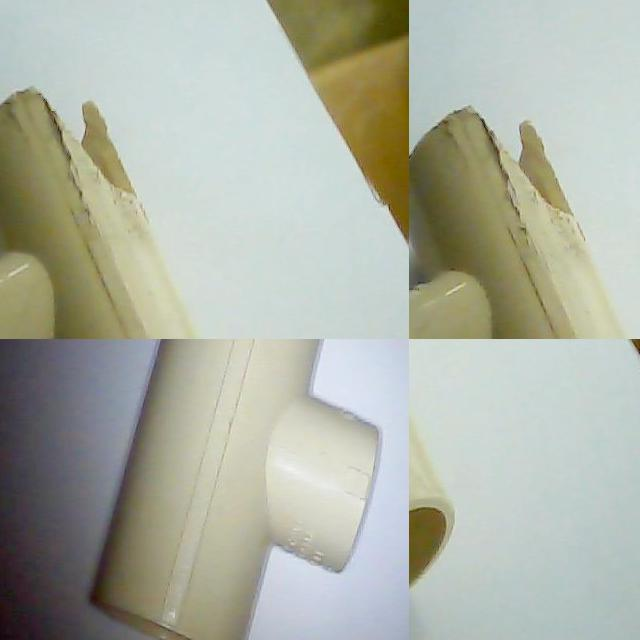Defective: (471, 104, 575, 220), (36, 90, 136, 196), (498, 121, 569, 216)
T Joint: (87, 339, 383, 640), (409, 108, 628, 339), (0, 89, 200, 339)
